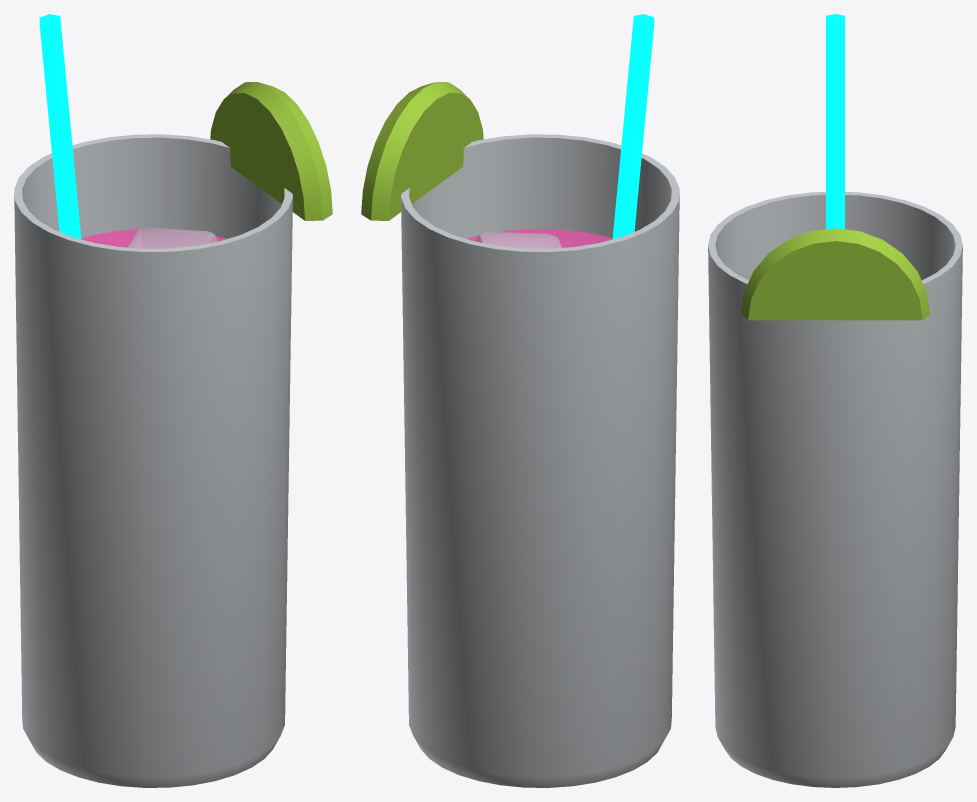
Rendered from KIT_Copo_Highball.glb.
The picture shows the model from 3 angles, left to right: view 1: azimuth 30°, elevation 25°; view 2: azimuth 150°, elevation 25°; view 3: azimuth 270°, elevation 25°; orthographic projection. The views are drawn at different scales.
Visible parts, largest first — view 1: KIT_Copo_Highball; view 2: KIT_Copo_Highball; view 3: KIT_Copo_Highball.
Boxes of the visible parts, x1,y1,x2,y2 form: KIT_Copo_Highball: (14, 14, 332, 787); KIT_Copo_Highball: (361, 14, 679, 787); KIT_Copo_Highball: (708, 14, 962, 787).
Bounding box in the file's own units: 0.073 × 0.2053 × 0.07.
